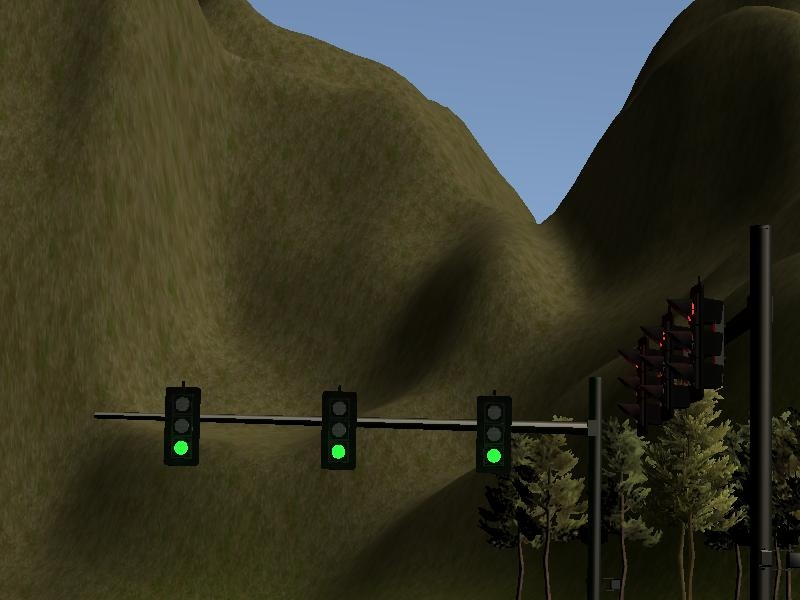traffic_light_green: (89, 384, 539, 477)
